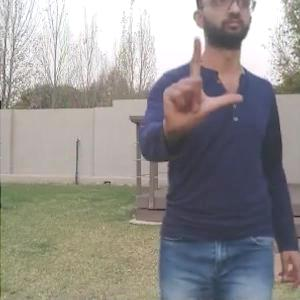land_hand: (160, 36, 241, 133)
